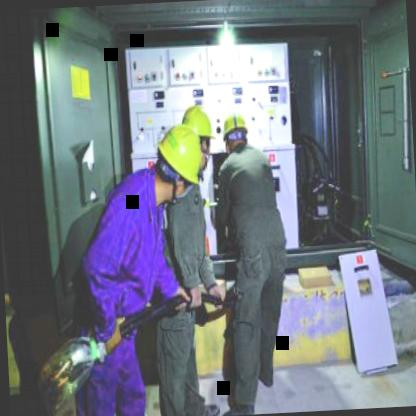helmet: (155, 122, 204, 192), (180, 104, 214, 170), (219, 110, 250, 152)
